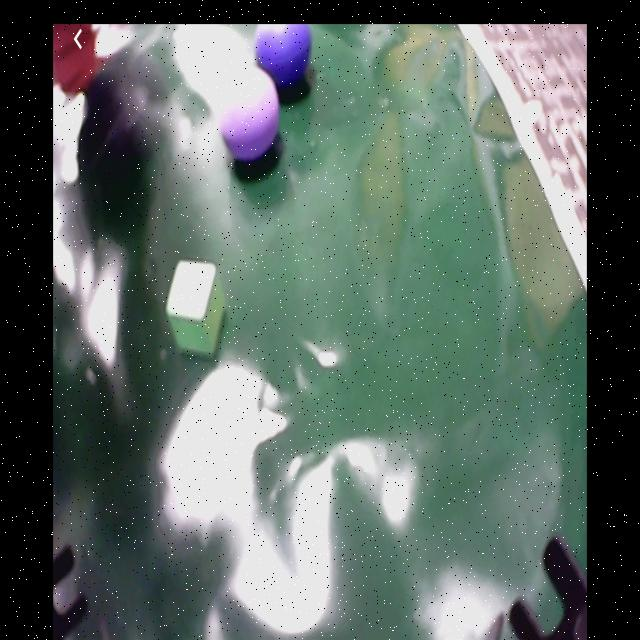ball: (221, 70, 279, 160), (254, 26, 312, 89)
